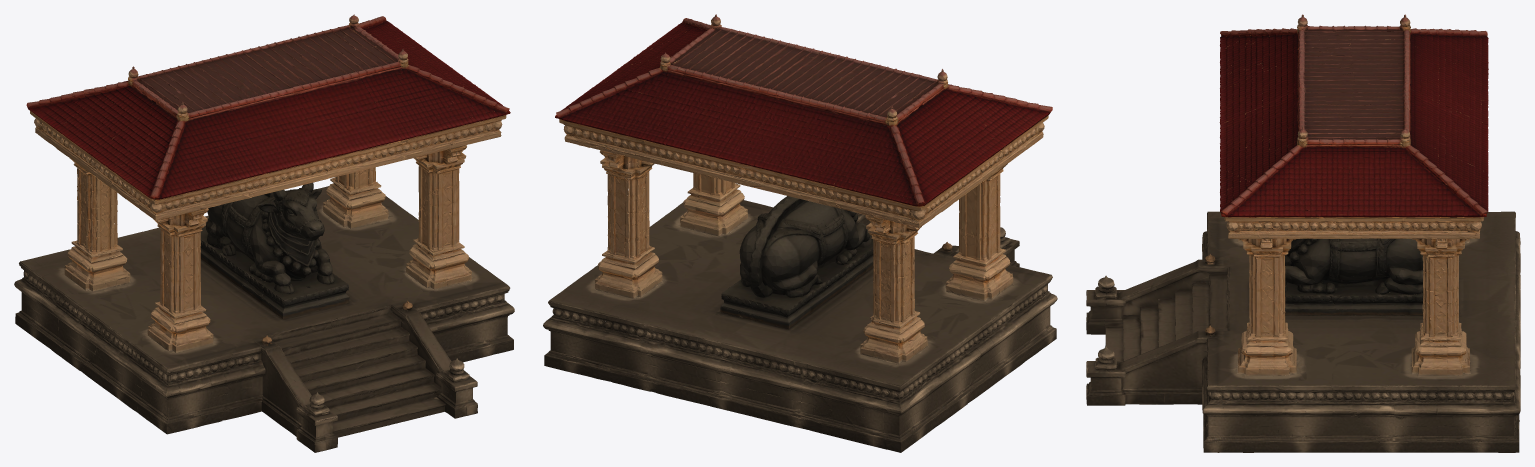
The model's file is nandi-lo.glb.
3 renders of one model, left to right at view 1: azimuth 30°, elevation 25°; view 2: azimuth 150°, elevation 25°; view 3: azimuth 270°, elevation 25°, orthographic. The views are drawn at different scales.
Parts seen in each view (by area): view 1: tripo_node_16b73997-3212-407d-a541-d48e3df051c7; view 2: tripo_node_16b73997-3212-407d-a541-d48e3df051c7; view 3: tripo_node_16b73997-3212-407d-a541-d48e3df051c7.
Part boxes in pixels (box(x1,y1,x2,y2)): tripo_node_16b73997-3212-407d-a541-d48e3df051c7: box(14, 14, 514, 452); tripo_node_16b73997-3212-407d-a541-d48e3df051c7: box(543, 14, 1057, 452); tripo_node_16b73997-3212-407d-a541-d48e3df051c7: box(1086, 14, 1520, 452).
Bounding box in the file's own units: 0.9765 × 0.7348 × 0.9801.
1 material, 1 textured.
